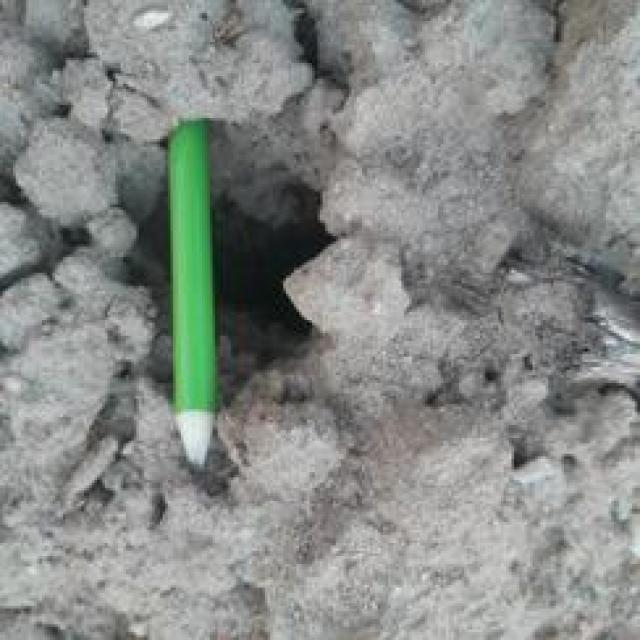pencil: (165, 115, 218, 467)
